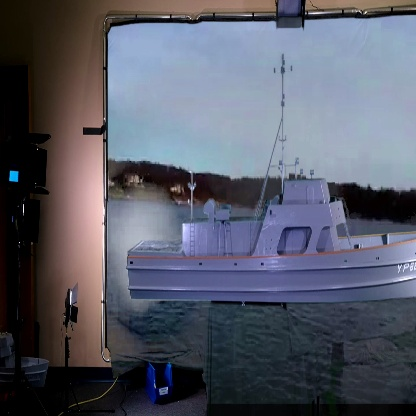YP689: (124, 47, 416, 302)
